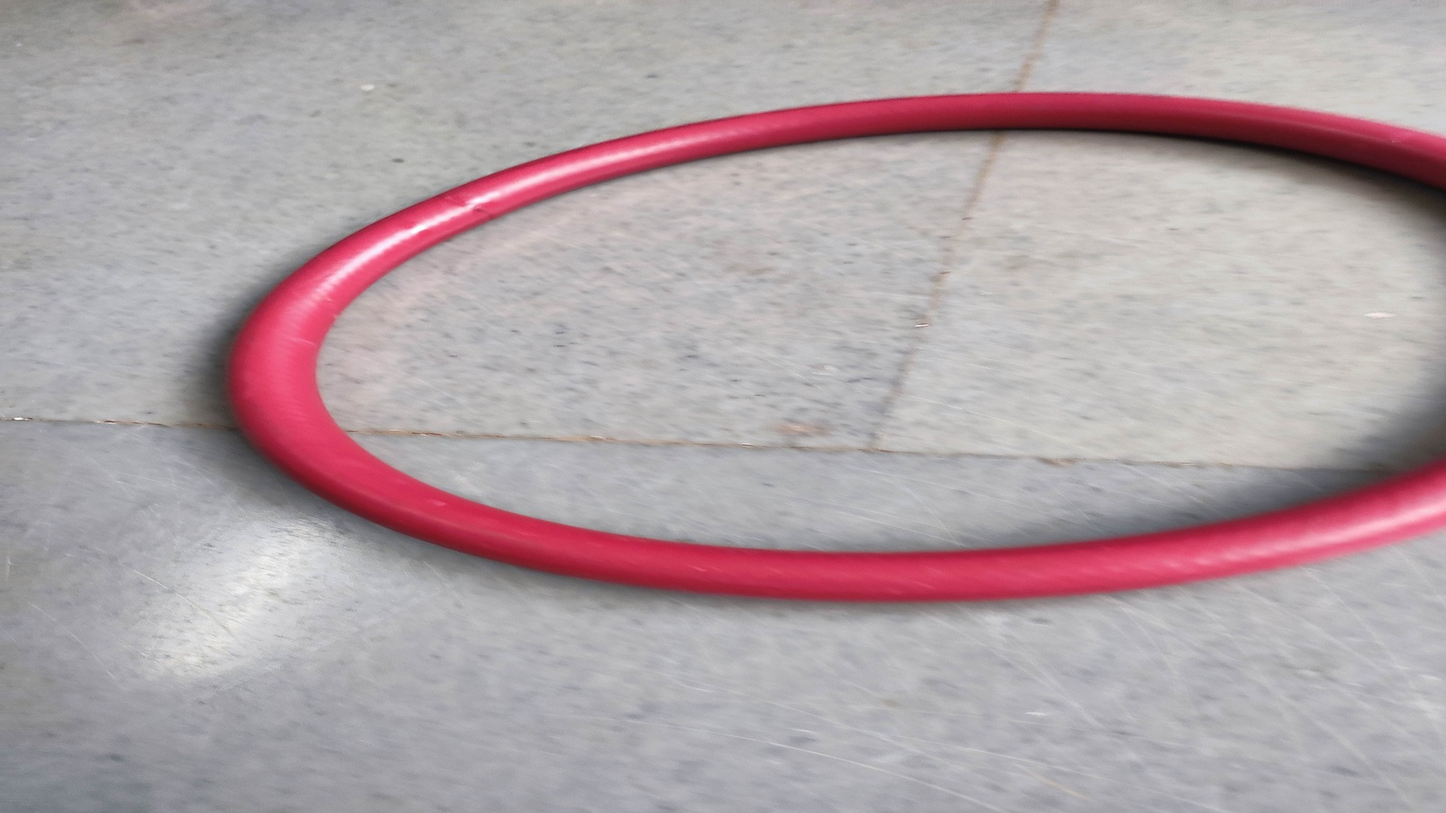Red ring: (228, 92, 1446, 601)
